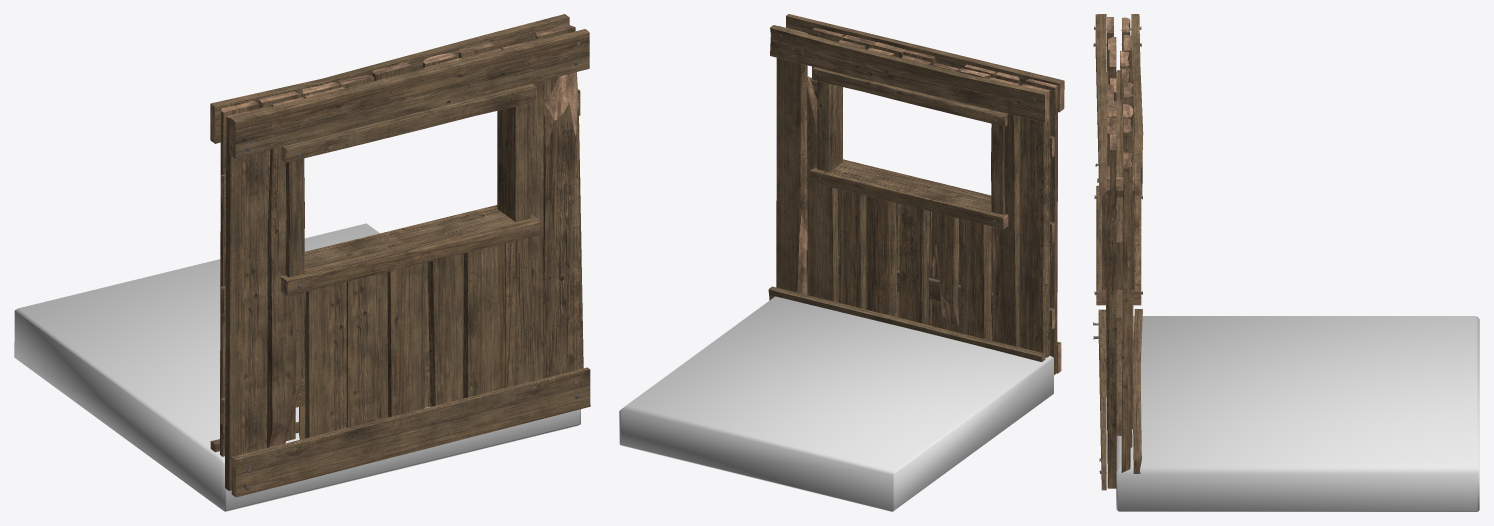
Rendered from SM_Wall_Window_B_P1_.fbx.
3 views of the same model, side by side, from view 1: azimuth 30°, elevation 25°; view 2: azimuth 150°, elevation 25°; view 3: azimuth 270°, elevation 25° (orthographic). The views are drawn at different scales.
Visible parts, largest first — view 1: SM_Wall_Window_B_P1_, SM_Wall_Window_B_P1__ConvexHulls; view 2: SM_Wall_Window_B_P1_, SM_Wall_Window_B_P1__ConvexHulls; view 3: SM_Wall_Window_B_P1__ConvexHulls, SM_Wall_Window_B_P1_.
Boxes of the visible parts, bbox=[...] form: SM_Wall_Window_B_P1_: bbox=[210, 14, 590, 497]; SM_Wall_Window_B_P1__ConvexHulls: bbox=[14, 223, 580, 511]; SM_Wall_Window_B_P1_: bbox=[768, 14, 1064, 374]; SM_Wall_Window_B_P1__ConvexHulls: bbox=[619, 296, 1053, 511]; SM_Wall_Window_B_P1__ConvexHulls: bbox=[1116, 316, 1479, 511]; SM_Wall_Window_B_P1_: bbox=[1093, 14, 1143, 490].
Bounding box in the file's own units: 3.02 × 3.24 × 3.26.
